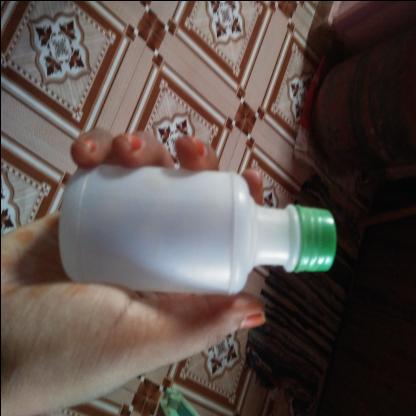bottle: (225, 106, 328, 416)
